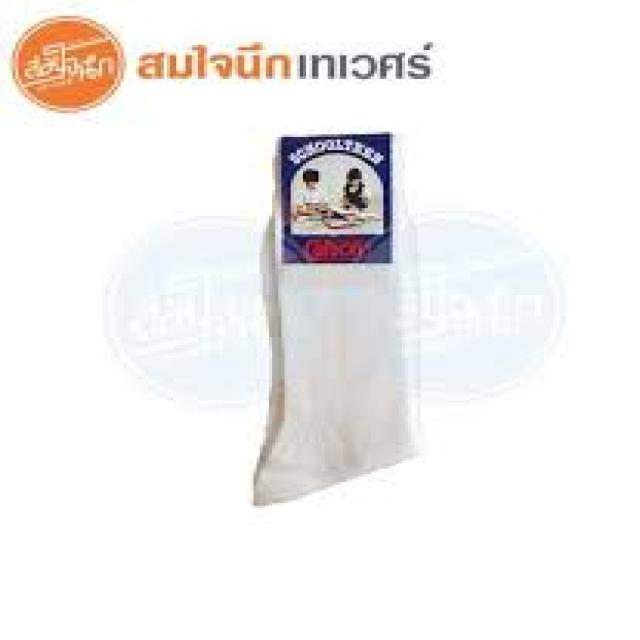sock: (250, 129, 420, 506)
